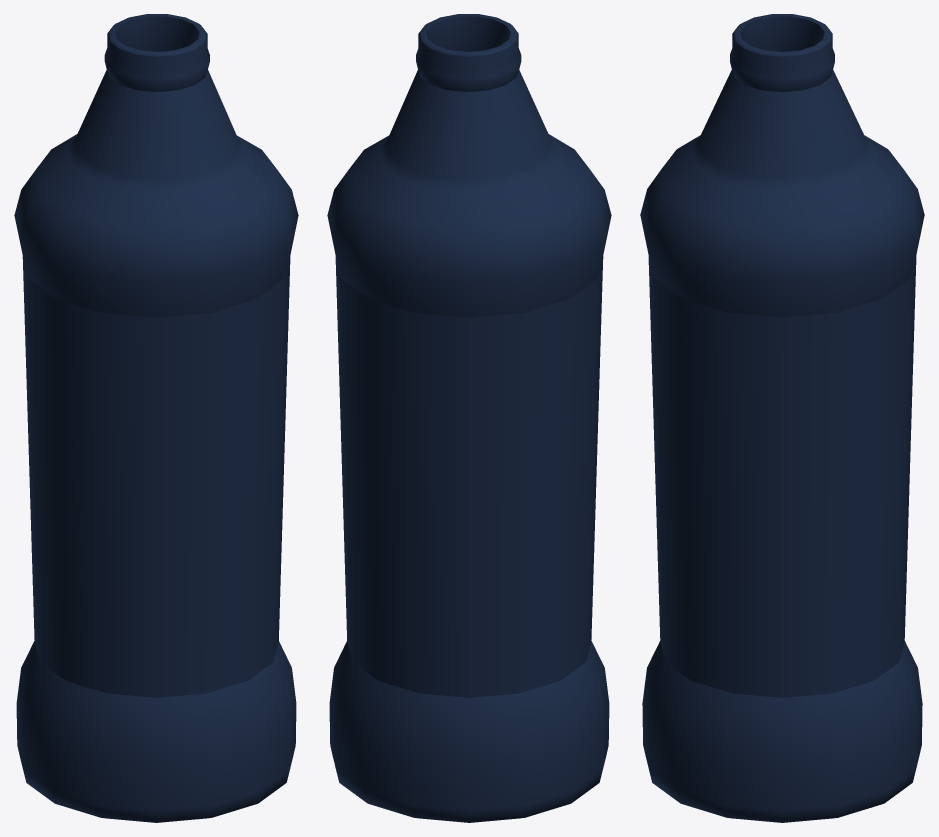
Rendered from SM_SPProps_Mesh09.FBX.
3 renders of one model, left to right at view 1: azimuth 30°, elevation 25°; view 2: azimuth 150°, elevation 25°; view 3: azimuth 270°, elevation 25°, orthographic.
Parts seen in each view (by area): view 1: SM_SPProps_Mesh09_LOD0; view 2: SM_SPProps_Mesh09_LOD0; view 3: SM_SPProps_Mesh09_LOD0.
Boxes of the visible parts, x1,y1,x2,y2 form: SM_SPProps_Mesh09_LOD0: [14, 14, 298, 822]; SM_SPProps_Mesh09_LOD0: [327, 14, 611, 822]; SM_SPProps_Mesh09_LOD0: [640, 14, 924, 822].
Size of what is drawn, in the model's own units: 7.28 by 7.32 by 20.94.
